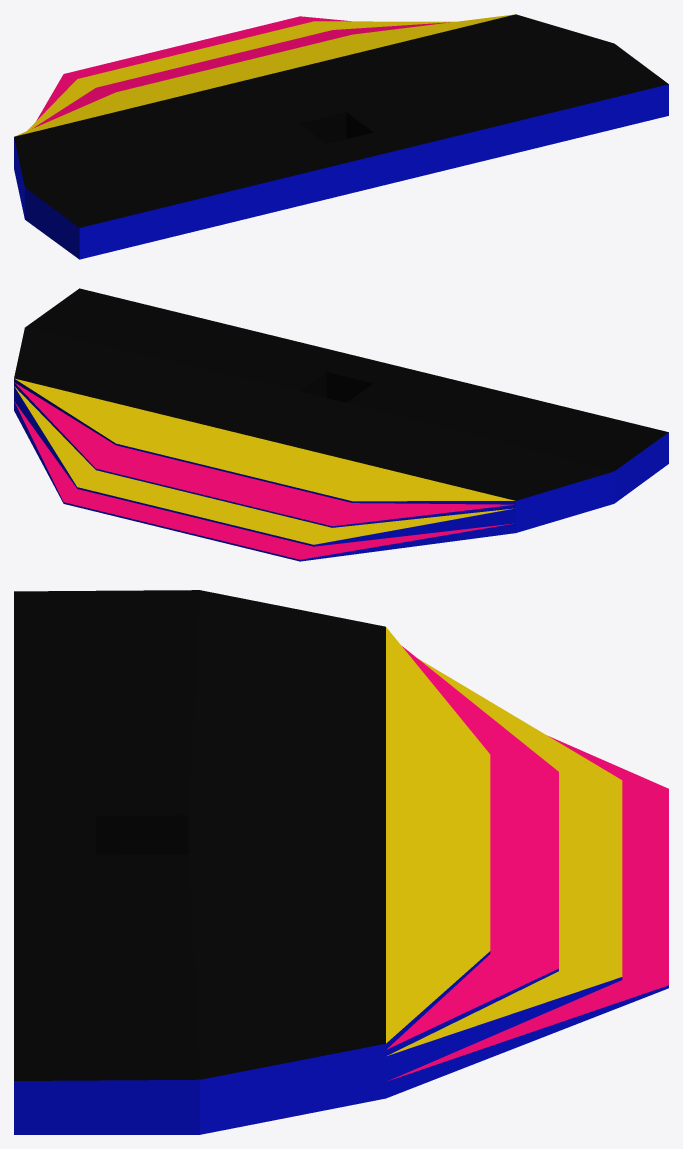
File: Stage_ver6.fbx
3 renders of one model, top to bottom at view 1: azimuth 30°, elevation 25°; view 2: azimuth 150°, elevation 25°; view 3: azimuth 270°, elevation 25°, orthographic. The views are drawn at different scales.
Visible parts, largest first — view 1: StageFloor; view 2: StageFloor; view 3: StageFloor.
Part boxes in pixels (<box>): StageFloor: <box>14,14,668,259</box>; StageFloor: <box>14,288,668,561</box>; StageFloor: <box>14,590,668,1134</box>.
Bounding box in the file's own units: 498 × 26.14 × 282.
